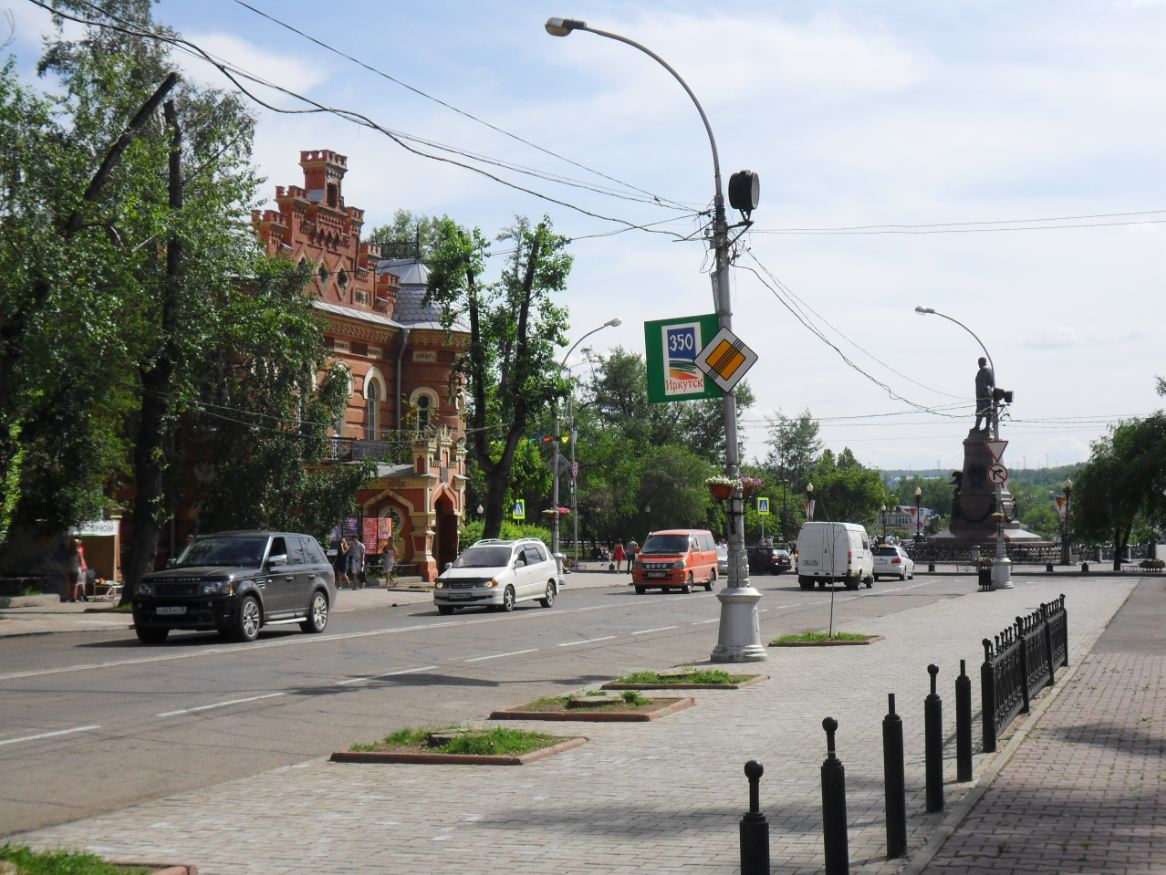sign: (691, 326, 760, 394), (983, 438, 1009, 462), (986, 463, 1009, 485), (510, 498, 527, 521), (756, 495, 771, 516)
